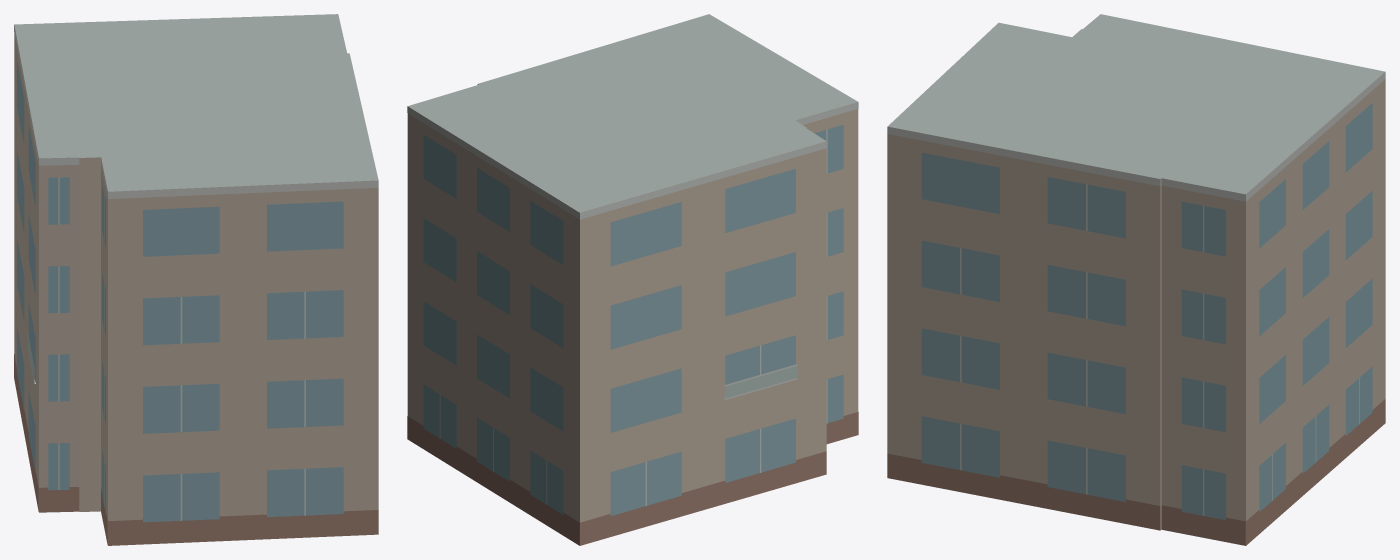
File: survey-upis-32672070.glb
3 renders of one model, left to right at view 1: azimuth 30°, elevation 25°; view 2: azimuth 150°, elevation 25°; view 3: azimuth 270°, elevation 25°, orthographic. The views are drawn at different scales.
Visible parts, largest first — view 1: survey-upis-32672070.tmp; view 2: survey-upis-32672070.tmp; view 3: survey-upis-32672070.tmp.
Part boxes in pixels (box(x1,y1,x2,y2)): survey-upis-32672070.tmp: box(14, 14, 378, 545); survey-upis-32672070.tmp: box(407, 14, 858, 545); survey-upis-32672070.tmp: box(887, 14, 1385, 545).
Size of the model in its own units: 13 by 11.8 by 15.17.
